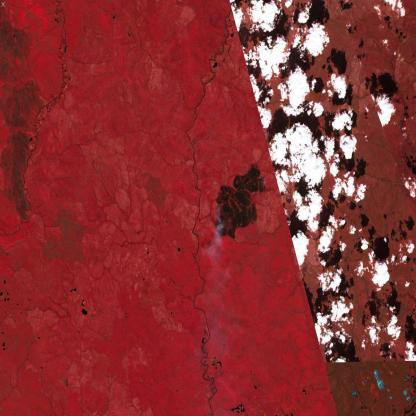fire: (214, 172, 266, 233)
